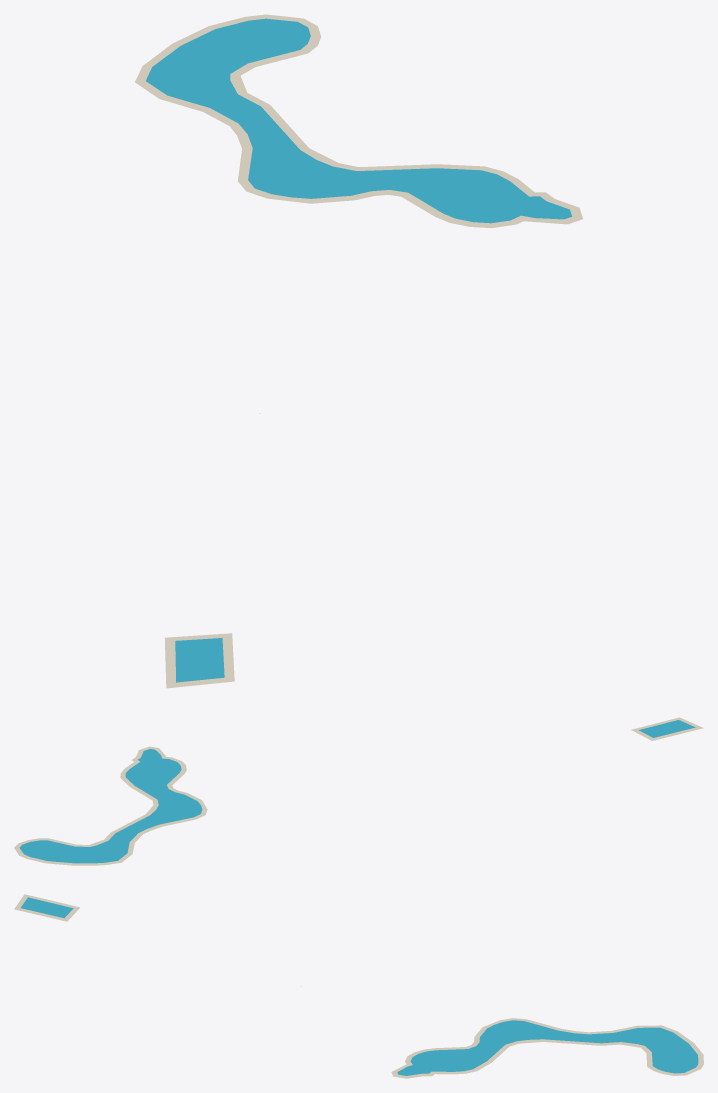
The model's file is pbpool_m22_m14.glb.
3 views of the same model, one above another, from view 1: azimuth 30°, elevation 25°; view 2: azimuth 150°, elevation 25°; view 3: azimuth 270°, elevation 25° (orthographic). The views are drawn at different scales.
Parts seen in each view (by area): view 1: pbpool_m22_m14_lod0; view 2: pbpool_m22_m14_lod0; view 3: pbpool_m22_m14_lod0.
Part boxes in pixels (<box>): pbpool_m22_m14_lod0: <box>135,14,582,688</box>; pbpool_m22_m14_lod0: <box>14,717,703,865</box>; pbpool_m22_m14_lod0: <box>14,894,703,1078</box>.
Size of what is drawn, in the model's own units: 112 by 4.39 by 163.
